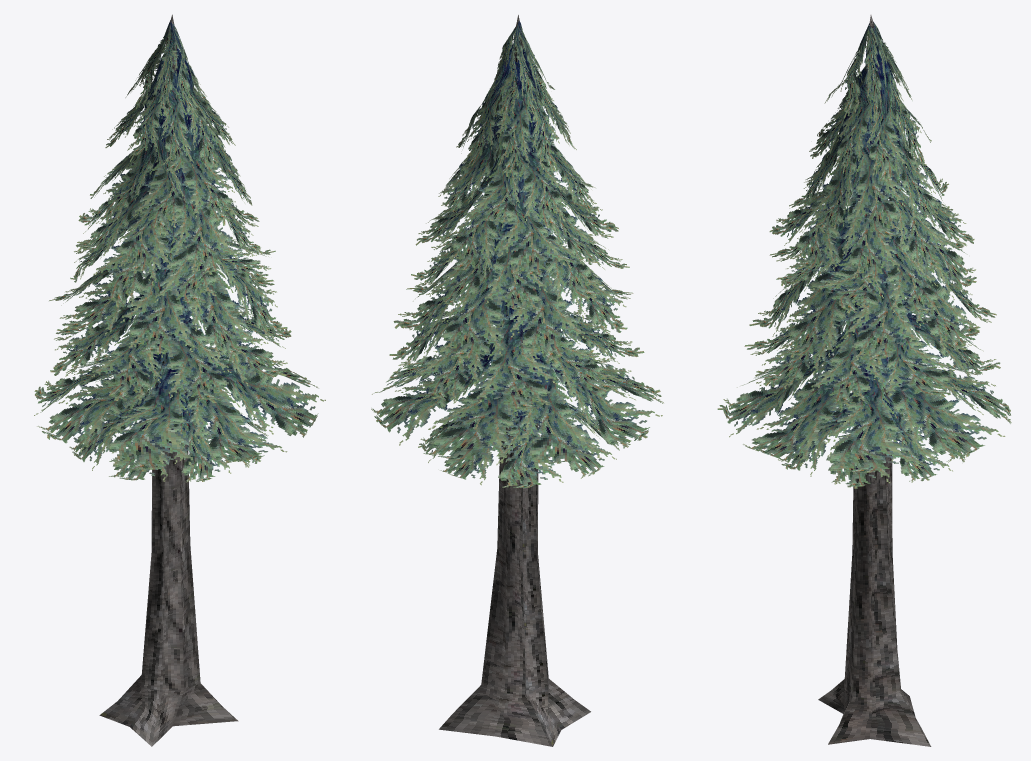
File: firTreeTall.glb
The picture shows the model from 3 angles, left to right: view 1: azimuth 30°, elevation 25°; view 2: azimuth 150°, elevation 25°; view 3: azimuth 270°, elevation 25°; orthographic projection.
Visible parts, largest first — view 1: FirTreeTall; view 2: FirTreeTall; view 3: FirTreeTall.
Boxes of the visible parts, x1,y1,x2,y2 form: FirTreeTall: (34, 14, 325, 746); FirTreeTall: (371, 15, 663, 746); FirTreeTall: (717, 15, 1011, 746).
Bounding box in the file's own units: 3.51 × 9.04 × 3.54.
1 material, 1 textured.
